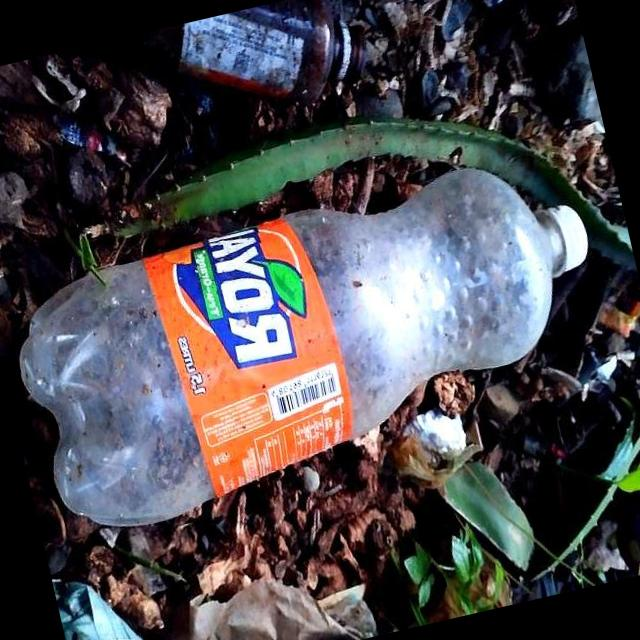Non-biodegradable: (1, 145, 629, 546)
